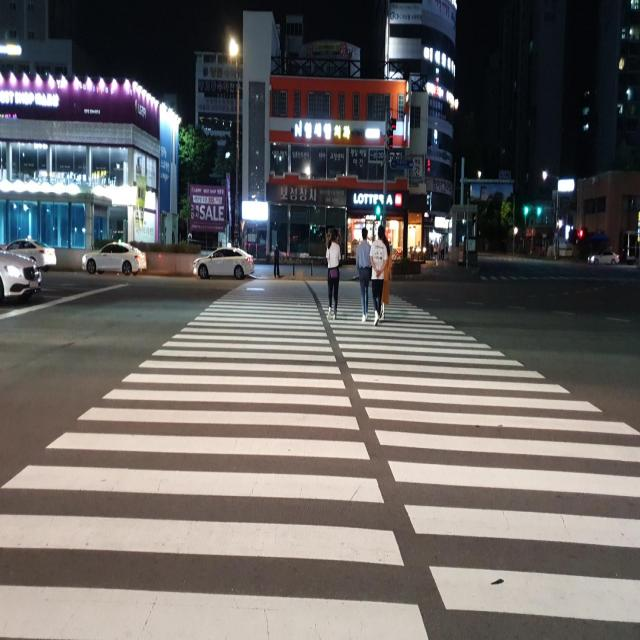초록불: (376, 200, 381, 220)
횡단보도: (0, 277, 640, 640)
